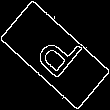P_SW: (26, 24, 84, 86)
